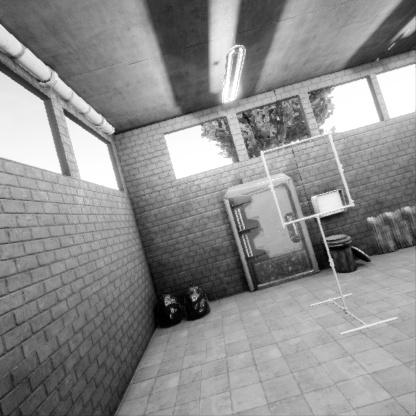gate: (259, 191, 358, 288)
